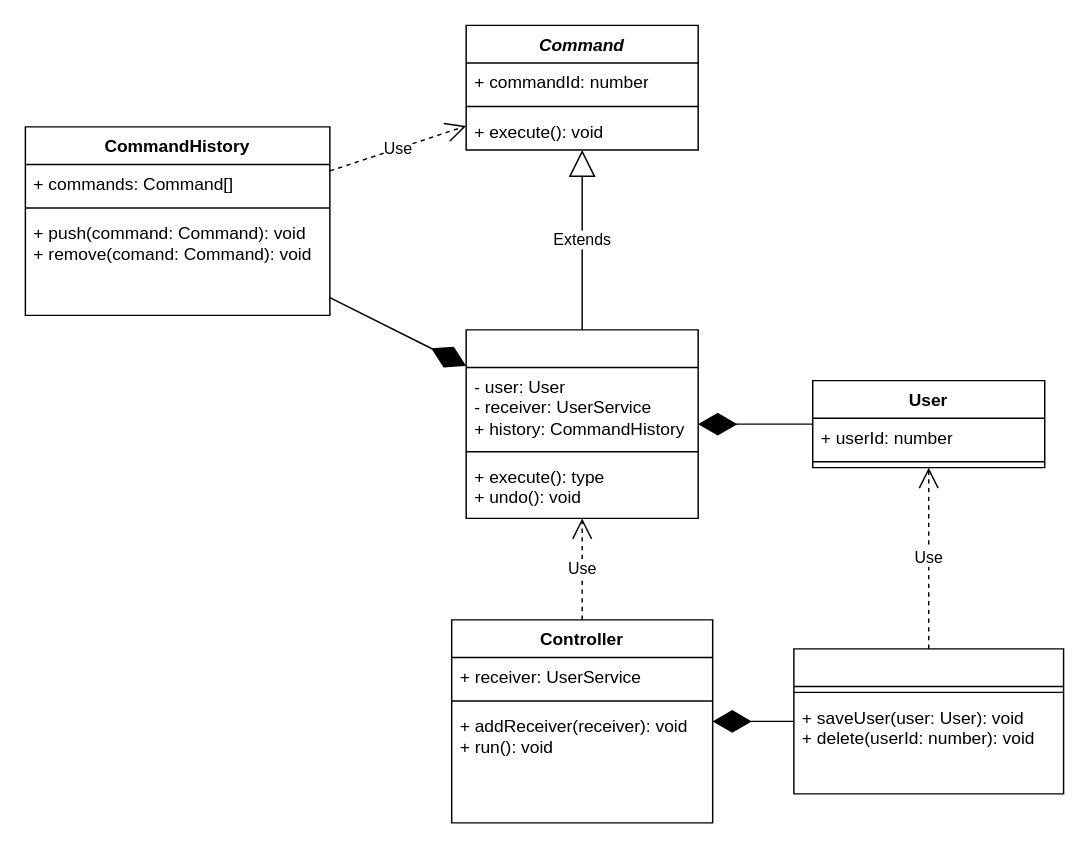
Some shapes in this 1089 by 853 pixel diagram are drawn without their labels. Each missing label, with the box of its shape:
AddUserCommand: (465, 328, 698, 518)
UserService: (792, 647, 1064, 794)
